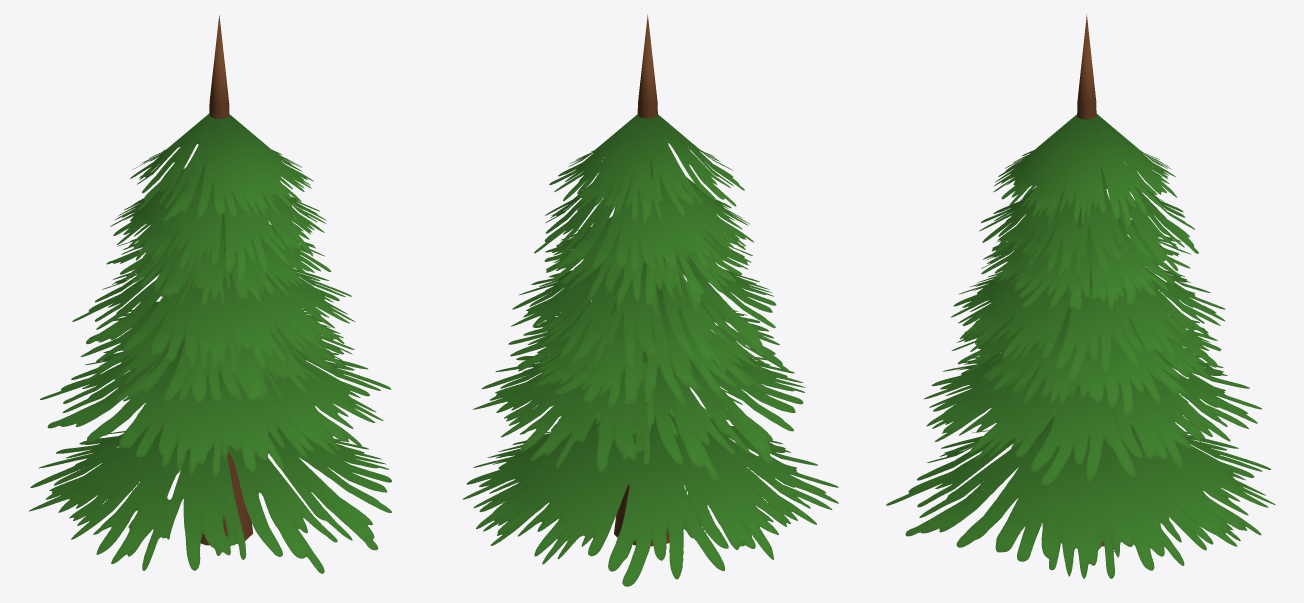
The model's file is Pine_Tree3.fbx.
3 renders of one model, left to right at view 1: azimuth 30°, elevation 25°; view 2: azimuth 150°, elevation 25°; view 3: azimuth 270°, elevation 25°, orthographic.
Visible parts, largest first — view 1: pCylinder71; view 2: pCylinder71; view 3: pCylinder71.
Boxes of the visible parts, x1,y1,x2,y2 form: pCylinder71: [28, 15, 391, 573]; pCylinder71: [462, 14, 838, 586]; pCylinder71: [886, 14, 1275, 578].
Bounding box in the file's own units: 381 × 536 × 381.
